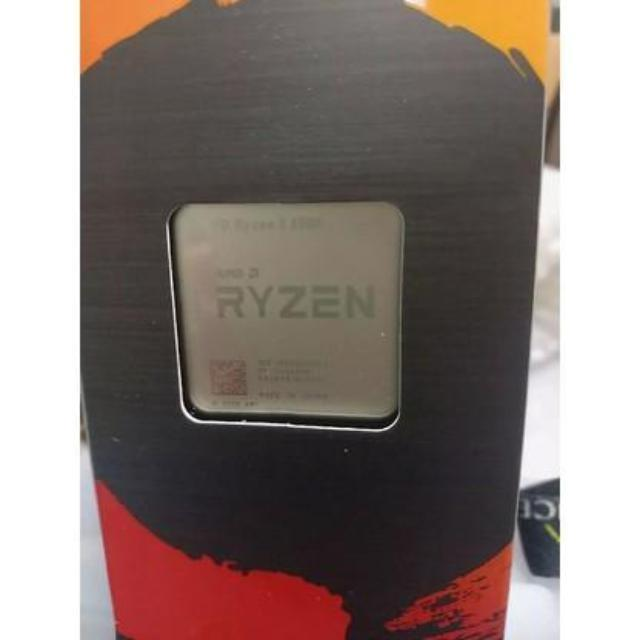CPU: (163, 186, 420, 443)
